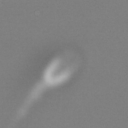normal: (1, 79, 48, 128)
